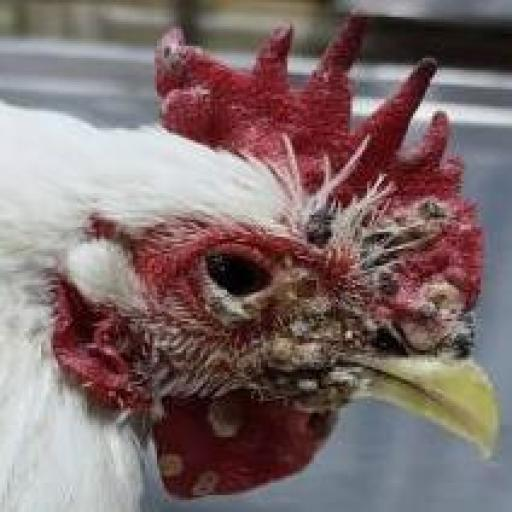disease: (182, 204, 388, 330), (215, 321, 381, 442), (379, 166, 482, 356), (140, 25, 216, 122), (276, 170, 342, 260), (155, 438, 231, 502)
